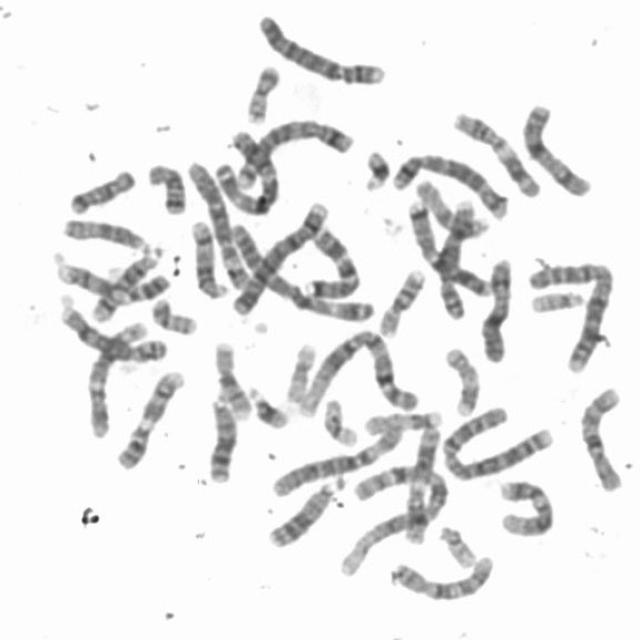A1: (332, 451, 454, 579), (290, 322, 422, 419)
A2: (522, 252, 618, 374), (435, 401, 558, 482)
A3: (224, 213, 375, 322), (208, 120, 284, 217)
B4: (225, 194, 333, 316), (250, 4, 390, 88)
B5: (227, 111, 357, 188), (386, 144, 513, 220)
C10: (384, 547, 499, 603), (573, 377, 628, 494)
C11: (448, 103, 546, 199), (397, 416, 444, 545)
C12: (81, 314, 150, 438), (492, 472, 558, 538)
C6: (266, 416, 407, 498), (180, 151, 254, 292)
C7: (401, 192, 495, 299), (299, 219, 364, 301)
C8: (52, 292, 170, 364), (431, 192, 476, 321)
C9: (110, 362, 188, 471), (49, 250, 172, 304)
D13: (262, 468, 348, 550), (200, 387, 240, 484)
D14: (85, 238, 167, 323), (184, 212, 232, 300)
D15: (411, 172, 493, 239), (56, 209, 154, 255)
E16: (373, 261, 428, 338), (207, 333, 254, 421)
E17: (439, 339, 484, 417), (358, 401, 446, 436)
E18: (62, 160, 139, 216), (140, 155, 189, 216)
F19: (280, 334, 320, 406), (316, 391, 362, 448)
F20: (239, 55, 284, 124), (145, 290, 200, 337)
G21: (242, 378, 292, 430), (357, 140, 394, 192)
G22: (433, 518, 480, 569), (524, 284, 587, 314)
X: (515, 94, 597, 199), (474, 250, 517, 364)
